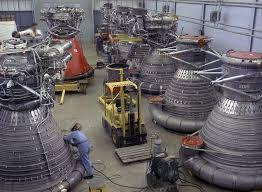thruster: (0, 111, 76, 192), (197, 98, 262, 176), (161, 70, 220, 120), (49, 36, 91, 77), (135, 52, 178, 86), (122, 43, 154, 71)
